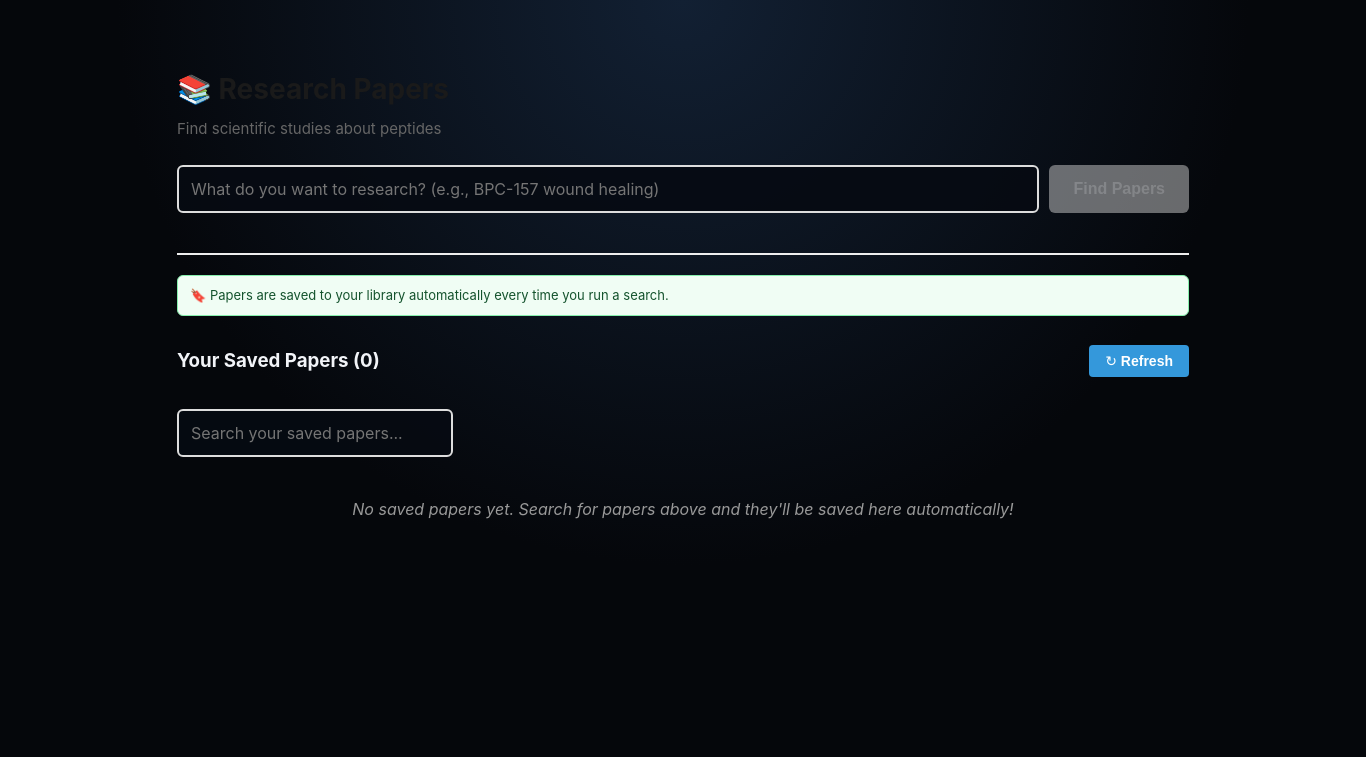
Test: LiteratureSearch Component › shows risk matrix banner when papers selected
In the field with id "literature-search-input": [608, 188] box [177, 164, 1039, 212], type "BPC-157"
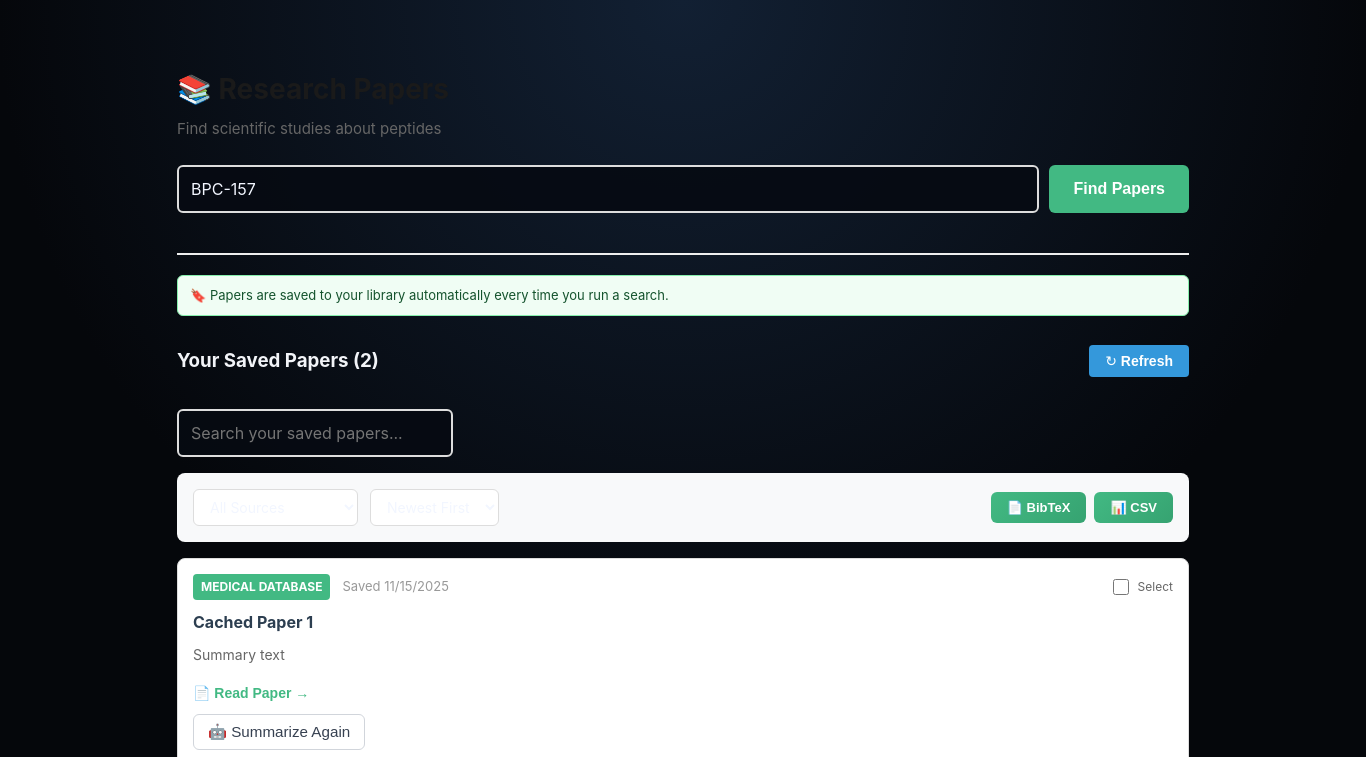
Click the button with class "search-btn": [1119, 188] box [1049, 164, 1189, 212]
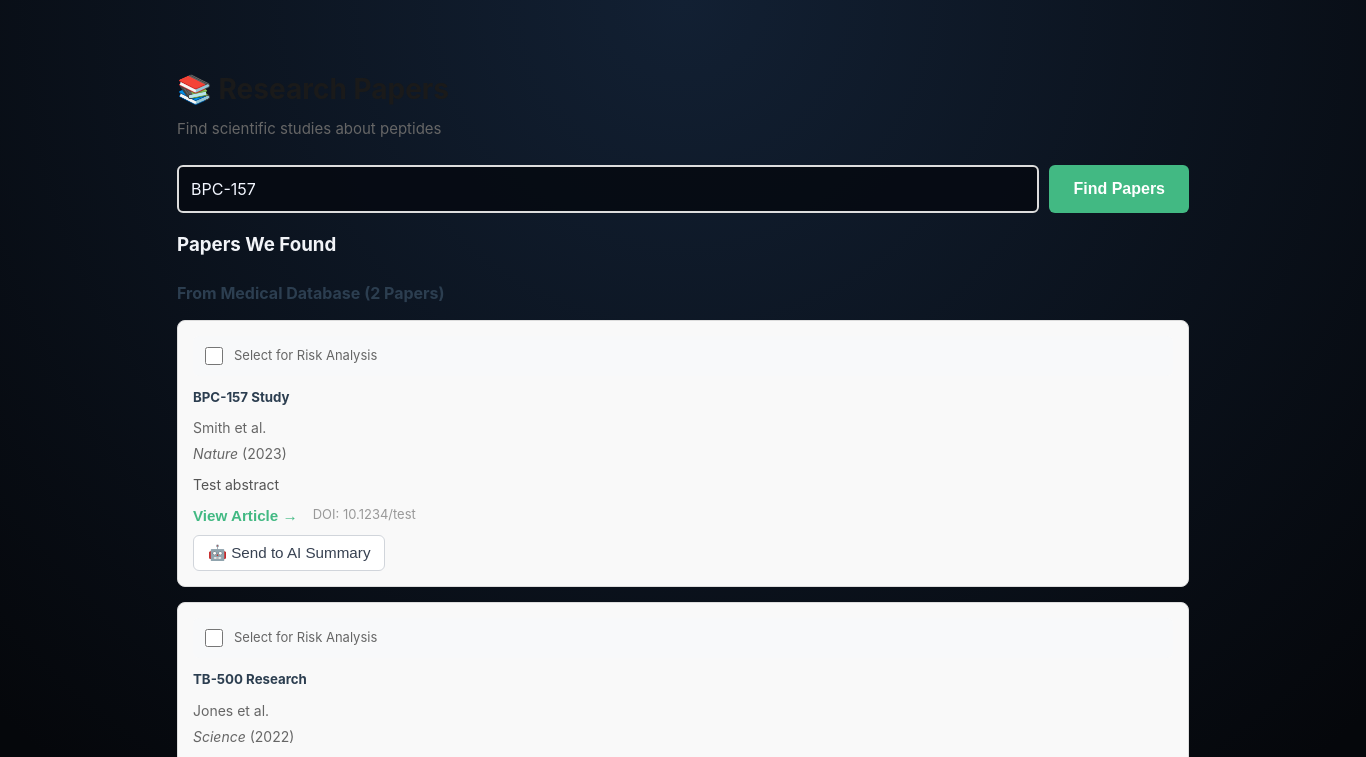
Click the 1st checkbox labelled "Select for Risk Analysis": [214, 356] box [205, 347, 223, 365]
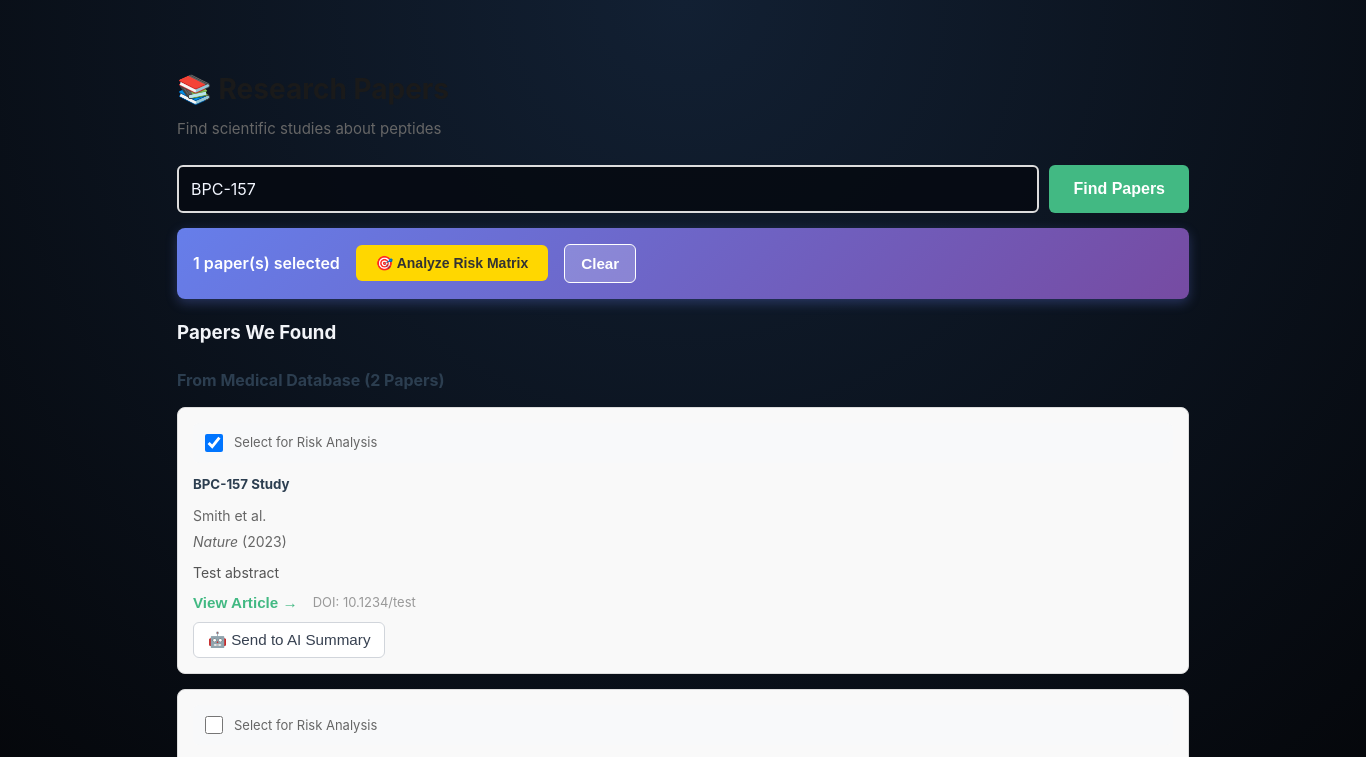
Expected: the element with class "risk-matrix-banner" is shown, [177, 228, 1189, 298]
Expected: the element with class "risk-matrix-banner" shows "1 paper(s) selected", [193, 253, 340, 273]
